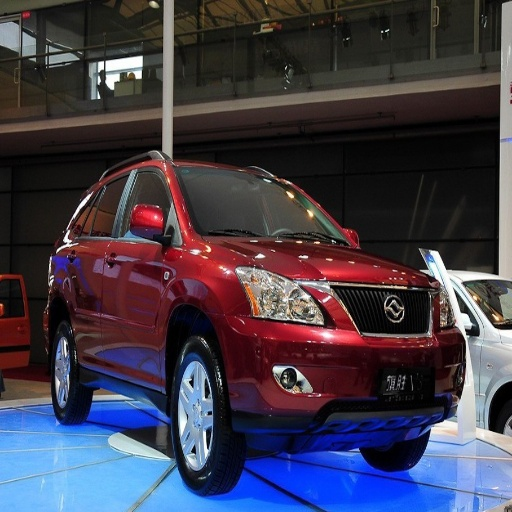_background_: (433, 328, 465, 398)
back_left_light: (73, 167, 133, 364)
back_right_door: (433, 297, 454, 331)
back_right_light: (223, 285, 448, 428)
front_bumper: (175, 168, 337, 241)
front_left_light: (103, 162, 177, 381)
front_right_door: (234, 267, 333, 326)
front_right_light: (204, 238, 398, 284)
right_mirror: (357, 283, 435, 351), (326, 99, 382, 119)
tailgate: (371, 305, 435, 371)
trunk: (170, 332, 243, 496), (51, 323, 91, 424), (363, 431, 427, 470)
